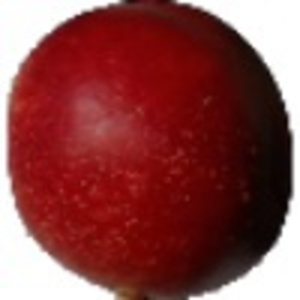nectarina: (5, 1, 293, 300)
